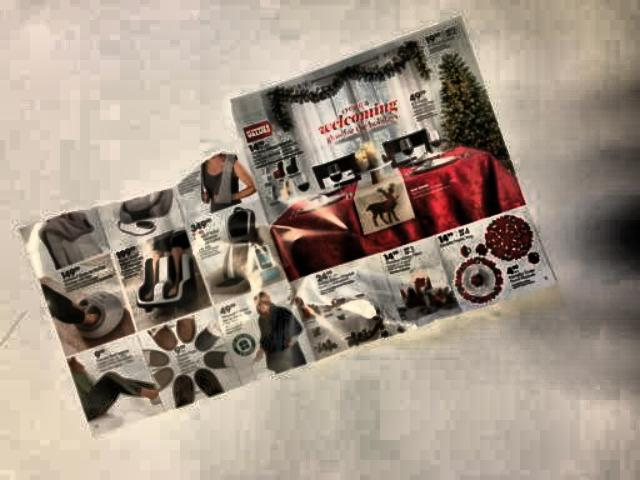Paper: (9, 14, 561, 430)
